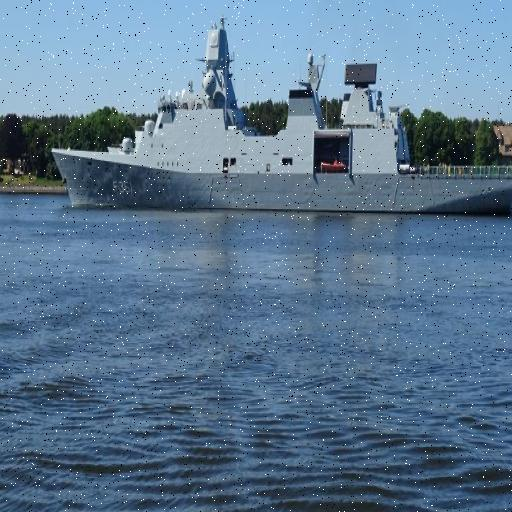Fragata: (50, 10, 512, 217)
